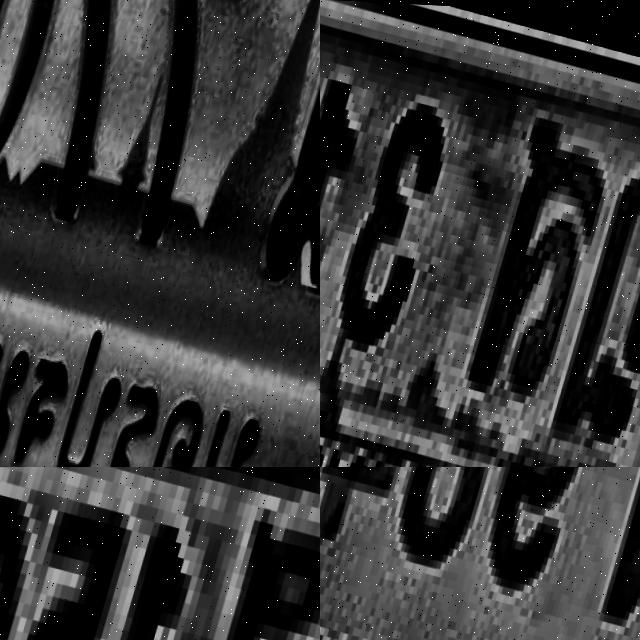license-plate: (0, 0, 320, 467), (320, 0, 640, 467), (0, 467, 320, 640), (320, 467, 640, 640)
